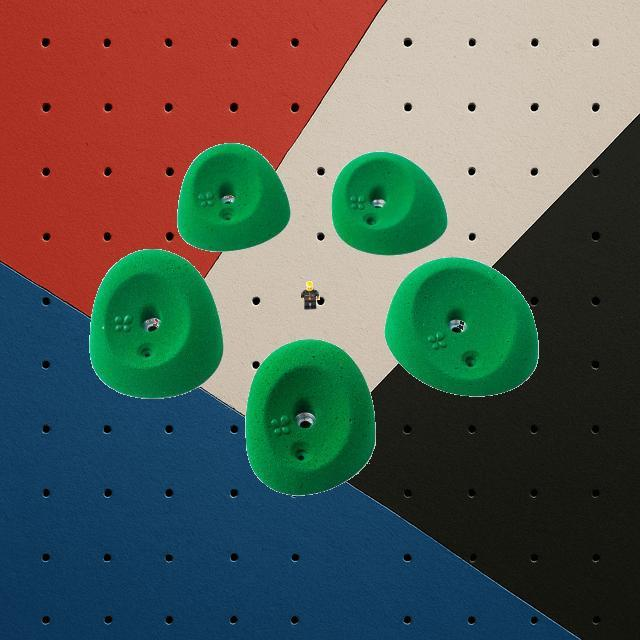Sloper: (384, 255, 538, 395), (243, 336, 374, 494), (88, 247, 224, 397), (176, 142, 292, 250), (330, 150, 448, 254)
